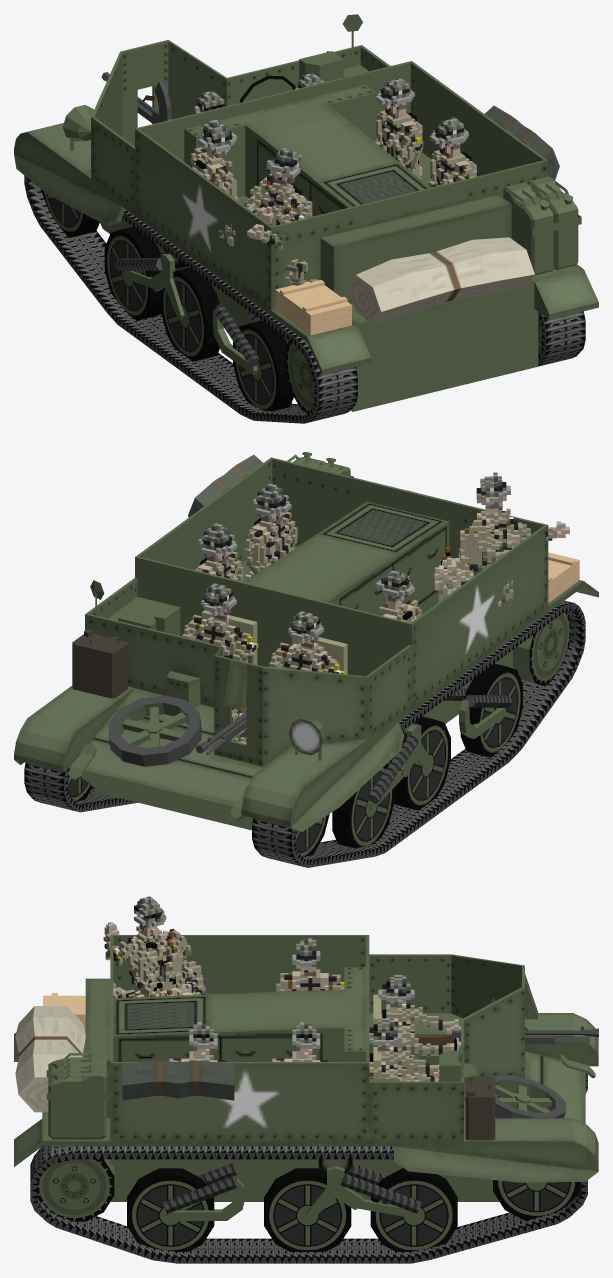
File: universal_carrier_base.glb
3 views of the same model, one above another, from view 1: azimuth 30°, elevation 25°; view 2: azimuth 150°, elevation 25°; view 3: azimuth 270°, elevation 25° (orthographic). The views are drawn at different scales.
Visible parts, largest first — view 1: 00_chassis_universal_carrier_chassis.mesh, 06_track_universal_carrier_track_1.mesh, crew_soldier_SLOT_02_PASSENGER, crew_soldier_SLOT_04_PASSENGER, crew_soldier_SLOT_05_PASSENGER, crew_soldier_SLOT_03_PASSENGER, 04_track_universal_carrier_track_1.mesh, 07_track_universal_carrier_track_2.mesh, 03_turret_universal_carrier_mg.mesh; view 2: 00_chassis_universal_carrier_chassis.mesh, 06_track_universal_carrier_track_1.mesh, crew_soldier_SLOT_02_PASSENGER, crew_soldier_SLOT_05_PASSENGER, crew_soldier_SLOT_00_DRIVER, 04_track_universal_carrier_track_1.mesh, 07_track_universal_carrier_track_2.mesh, crew_soldier_SLOT_01_GUNNER, crew_soldier_SLOT_04_PASSENGER, crew_soldier_SLOT_03_PASSENGER, 03_turret_universal_carrier_mg.mesh; view 3: 00_chassis_universal_carrier_chassis.mesh, 04_track_universal_carrier_track_1.mesh, crew_soldier_SLOT_02_PASSENGER, 05_track_universal_carrier_track_2.mesh, crew_soldier_SLOT_01_GUNNER, crew_soldier_SLOT_00_DRIVER, crew_soldier_SLOT_03_PASSENGER, 03_turret_universal_carrier_mg.mesh, crew_soldier_SLOT_04_PASSENGER, crew_soldier_SLOT_05_PASSENGER.
Part boxes in pixels (left/top/right/bottom): 00_chassis_universal_carrier_chassis.mesh: left=14, top=14, right=598, bottom=411; 06_track_universal_carrier_track_1.mesh: left=24, top=175, right=357, bottom=423; crew_soldier_SLOT_02_PASSENGER: left=217, top=148, right=317, bottom=285; crew_soldier_SLOT_04_PASSENGER: left=375, top=77, right=431, bottom=180; crew_soldier_SLOT_05_PASSENGER: left=428, top=116, right=476, bottom=187; crew_soldier_SLOT_03_PASSENGER: left=190, top=119, right=238, bottom=201; 04_track_universal_carrier_track_1.mesh: left=538, top=311, right=585, bottom=366; 07_track_universal_carrier_track_2.mesh: left=285, top=341, right=314, bottom=413; 03_turret_universal_carrier_mg.mesh: left=101, top=72, right=171, bottom=123; 00_chassis_universal_carrier_chassis.mesh: left=14, top=452, right=598, bottom=832; 06_track_universal_carrier_track_1.mesh: left=252, top=600, right=585, bottom=867; crew_soldier_SLOT_02_PASSENGER: left=434, top=472, right=569, bottom=606; crew_soldier_SLOT_05_PASSENGER: left=244, top=483, right=297, bottom=580; crew_soldier_SLOT_00_DRIVER: left=182, top=583, right=258, bottom=741; 04_track_universal_carrier_track_1.mesh: left=24, top=763, right=137, bottom=812; 07_track_universal_carrier_track_2.mesh: left=513, top=612, right=570, bottom=686; crew_soldier_SLOT_01_GUNNER: left=237, top=611, right=345, bottom=744; crew_soldier_SLOT_04_PASSENGER: left=195, top=523, right=243, bottom=581; crew_soldier_SLOT_03_PASSENGER: left=375, top=570, right=421, bottom=622; 03_turret_universal_carrier_mg.mesh: left=195, top=705, right=246, bottom=754; 00_chassis_universal_carrier_chassis.mesh: left=14, top=935, right=598, bottom=1220; 04_track_universal_carrier_track_1.mesh: left=30, top=1146, right=587, bottom=1263; crew_soldier_SLOT_02_PASSENGER: left=103, top=896, right=208, bottom=998; 05_track_universal_carrier_track_2.mesh: left=37, top=1159, right=114, bottom=1221; crew_soldier_SLOT_01_GUNNER: left=378, top=975, right=460, bottom=1081; crew_soldier_SLOT_00_DRIVER: left=369, top=1018, right=439, bottom=1081; crew_soldier_SLOT_03_PASSENGER: left=276, top=938, right=344, bottom=991; 03_turret_universal_carrier_mg.mesh: left=414, top=998, right=598, bottom=1045; crew_soldier_SLOT_04_PASSENGER: left=272, top=1022, right=328, bottom=1061; crew_soldier_SLOT_05_PASSENGER: left=169, top=1022, right=225, bottom=1061.
Size of the model in its own units: 2.71 by 2.19 by 4.55.
40 materials, 4 textured.
